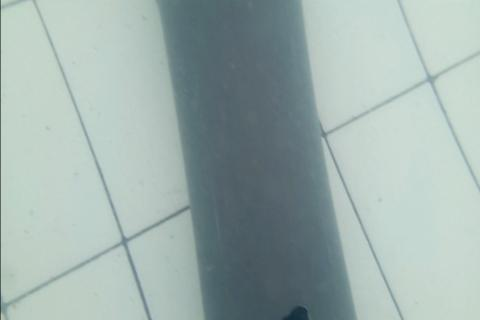kebocoran: (275, 302, 308, 319)
